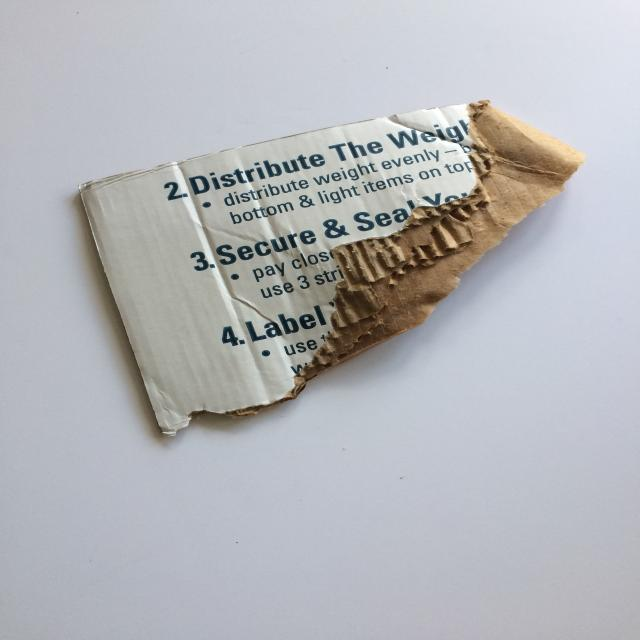cardboard: (76, 99, 585, 436)
